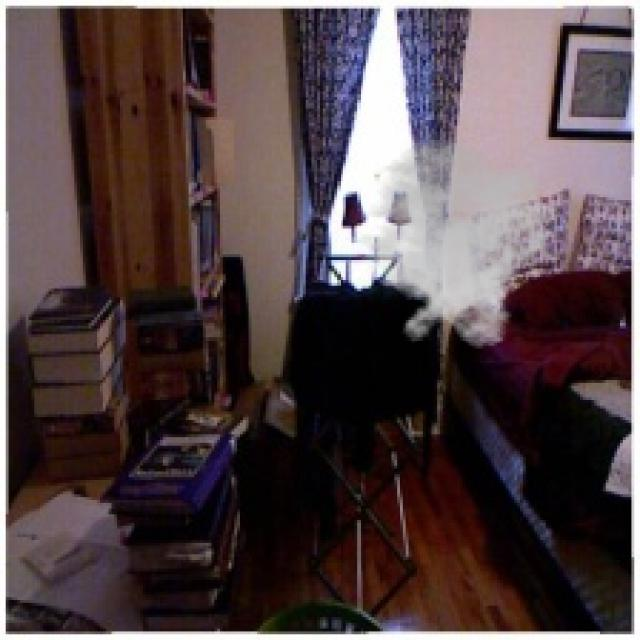smoke: (343, 137, 560, 349)
